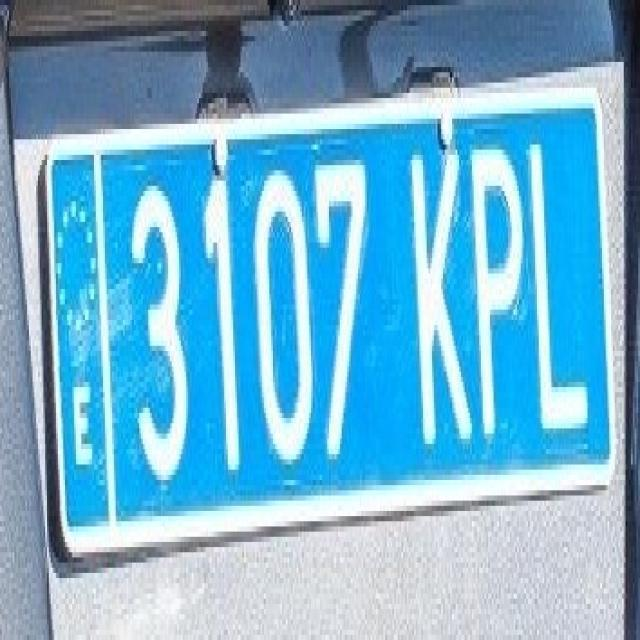LicensePlate: (27, 53, 625, 614)
